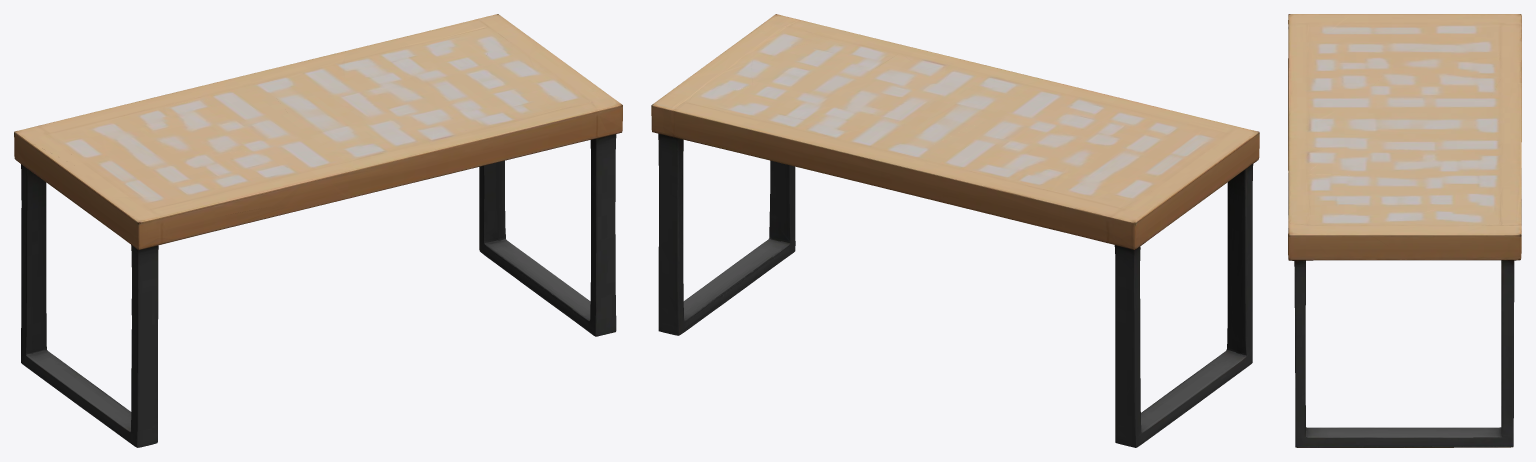
Rendered from bench_wood_2.glb.
3 renders of one model, left to right at view 1: azimuth 30°, elevation 25°; view 2: azimuth 150°, elevation 25°; view 3: azimuth 270°, elevation 25°, orthographic. The views are drawn at different scales.
Visible parts, largest first — view 1: geometry_0; view 2: geometry_0; view 3: geometry_0.
Boxes of the visible parts, box(x1,y1,x2,y2) form: geometry_0: box(14, 14, 622, 447); geometry_0: box(651, 14, 1259, 447); geometry_0: box(1288, 14, 1521, 447).
Size of the model in its own units: 1 by 0.4533 by 0.4477.
Materials: 1 (1 with a texture image).
